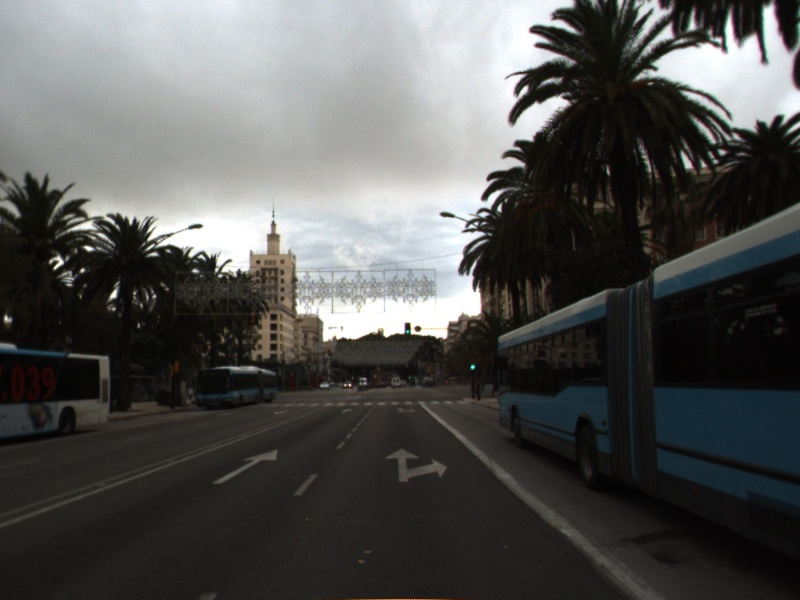STRAIGHT: (210, 448, 279, 486), (339, 407, 354, 415)
STRAIGHT_RIGHT: (382, 446, 449, 484), (393, 406, 418, 415)
